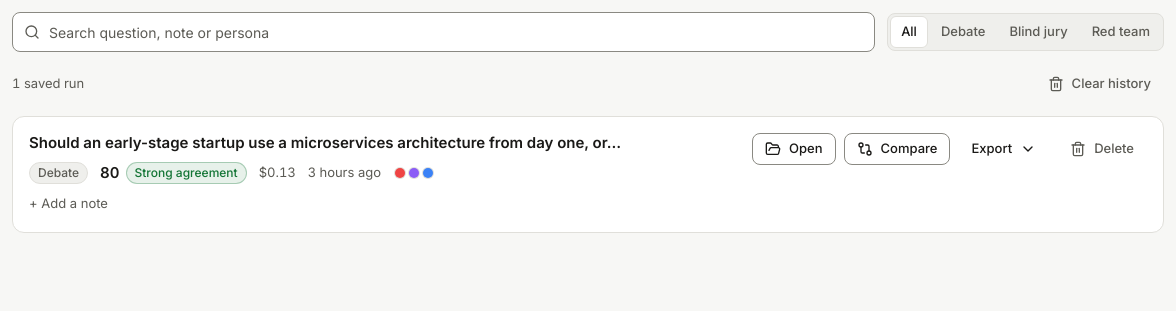
RunList › uses the singular in the clear confirmation for one run
Step 1. Click the button "Clear history" → (1099, 84), box [1035,68,1164,100]
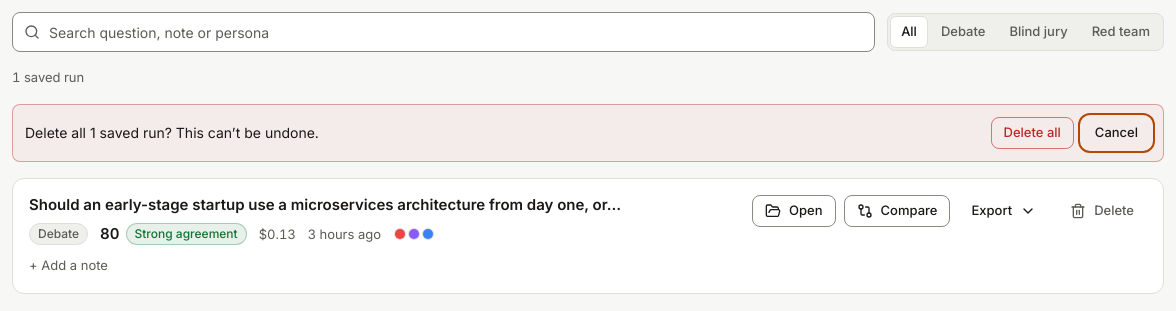
Now the element named "Confirm clear history" shows "Delete all 1 saved run?", box [12,104,1164,162]
